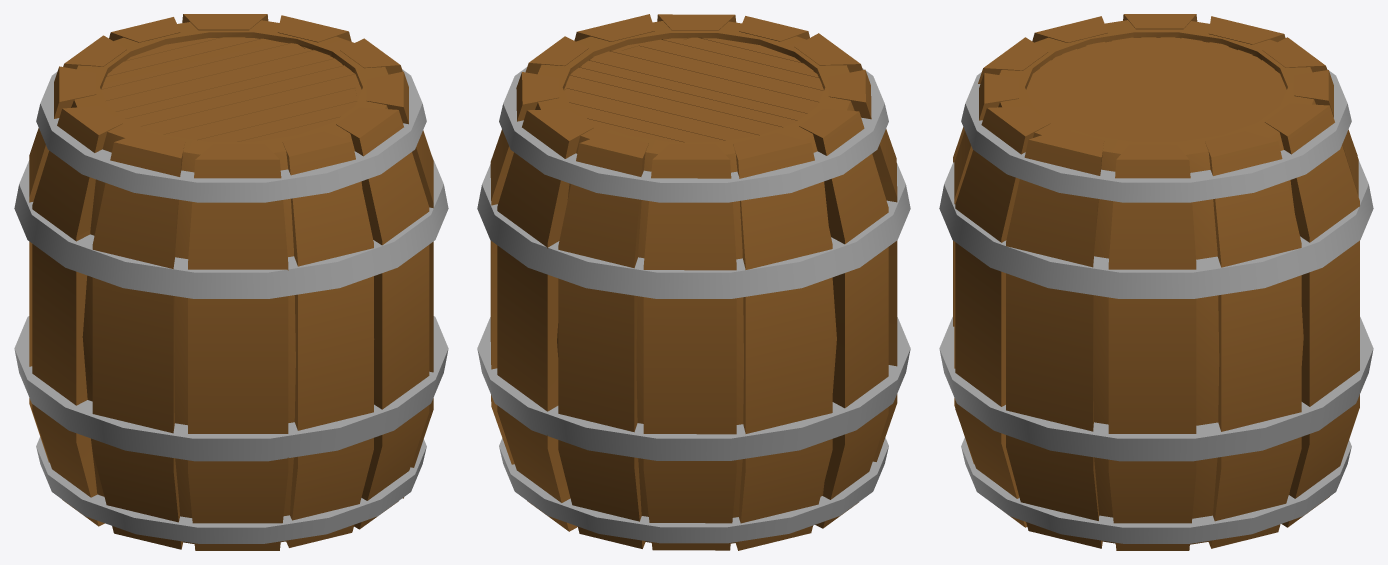
Rendered from barrel.fbx.
3 views of the same model, side by side, from view 1: azimuth 30°, elevation 25°; view 2: azimuth 150°, elevation 25°; view 3: azimuth 270°, elevation 25° (orthographic).
Visible parts, largest first — view 1: Barrel; view 2: Barrel; view 3: Barrel.
Boxes of the visible parts, box(x1,y1,x2,y2) form: Barrel: box(14, 14, 448, 550); Barrel: box(477, 14, 910, 550); Barrel: box(939, 14, 1373, 550).
Bounding box in the file's own units: 5.54 × 5.6 × 5.63.
